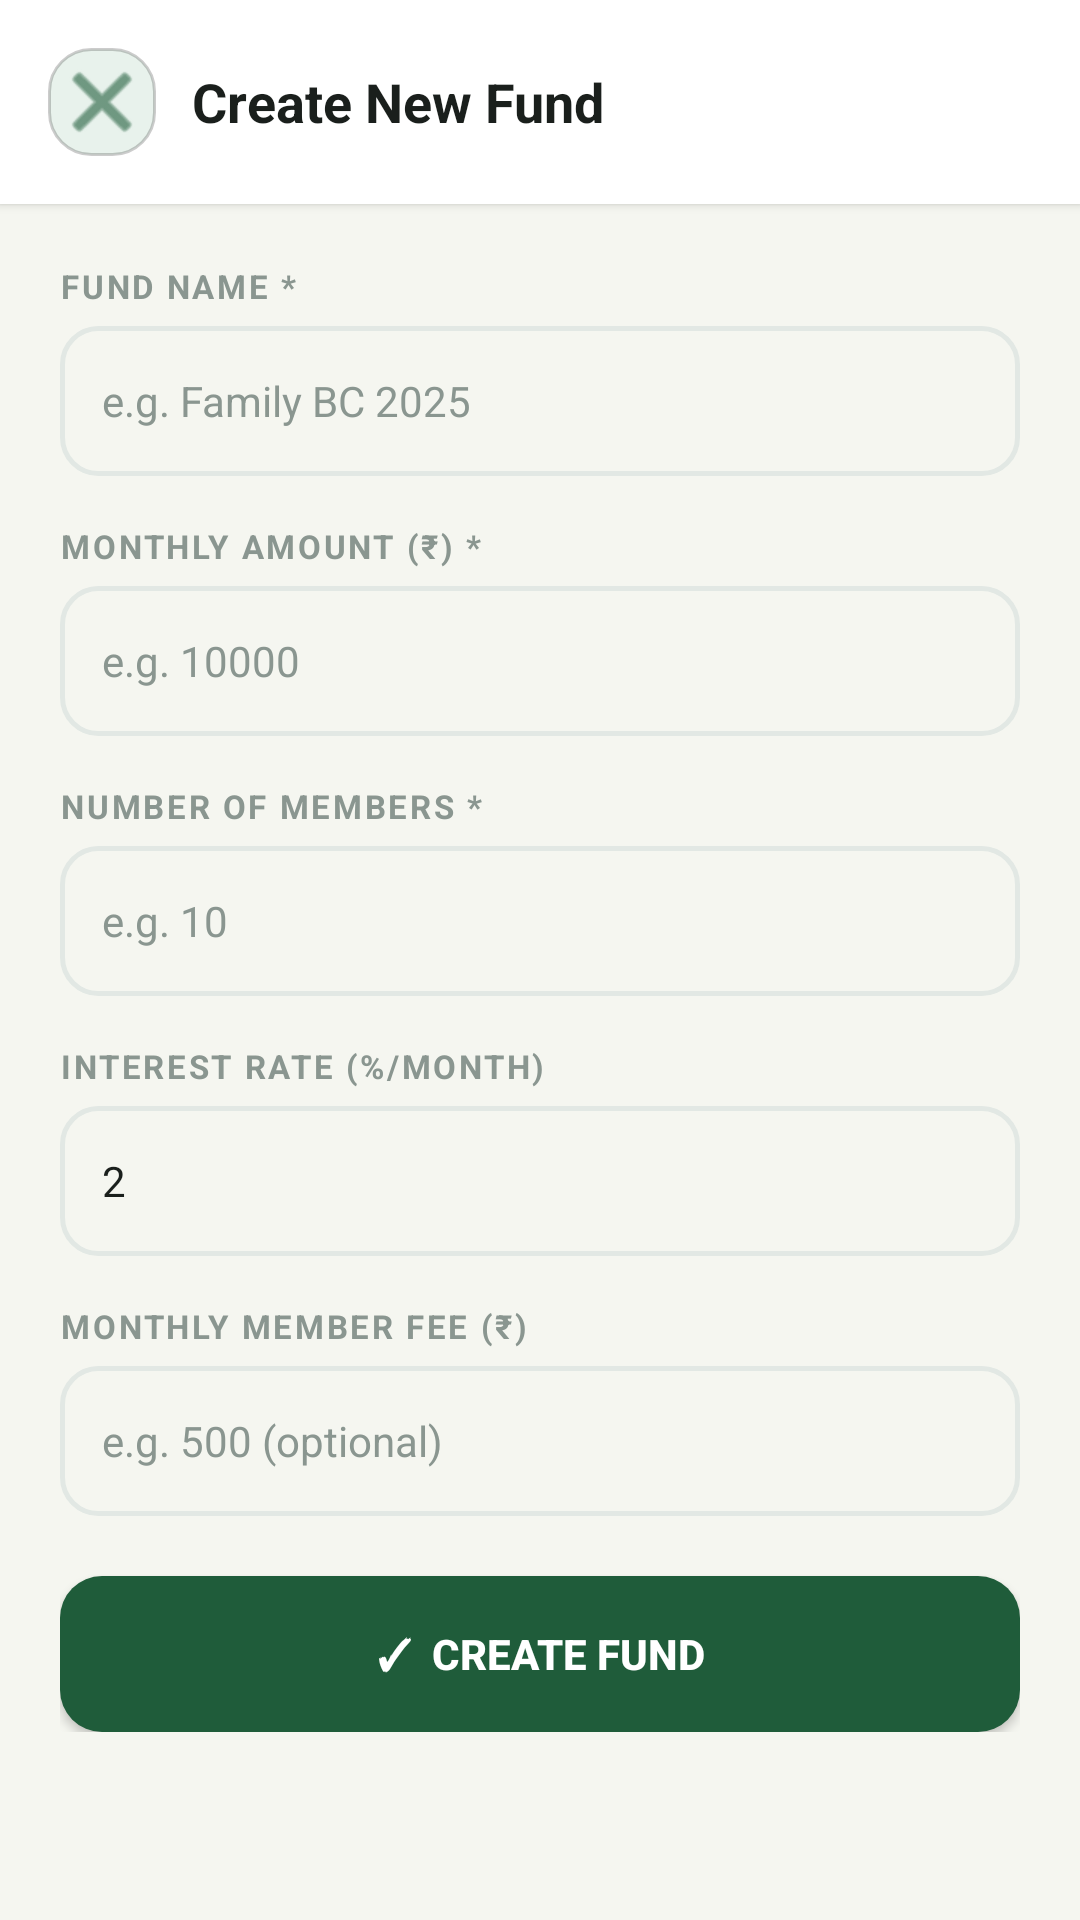

Where icons sit on this 1080w x 1920h app screen, as Rect(x1, y1, x2, y2):
Close: Rect(48, 48, 156, 156)
